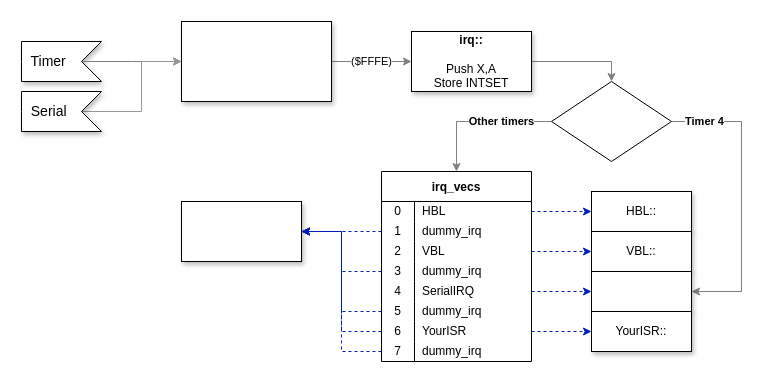
Some shapes in this 767 by 379 pixel diagram are drawn without their labels. The shapes that lost their labels are listed below. From the top down, each one's centre as x and y in pixels, then its label:
the point at 257,62: 6502 Interrupt sequence Push PCHi,PCLo, PS Jump to IRQVEC
the point at 611,121: Check INTSET
the point at 242,232: dummy_irq END_IRQ: Pull A,X, RTI
the point at 642,292: SerialIRQ::
